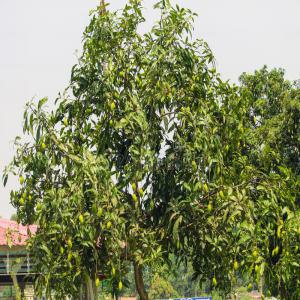Tree: (0, 3, 235, 299)
